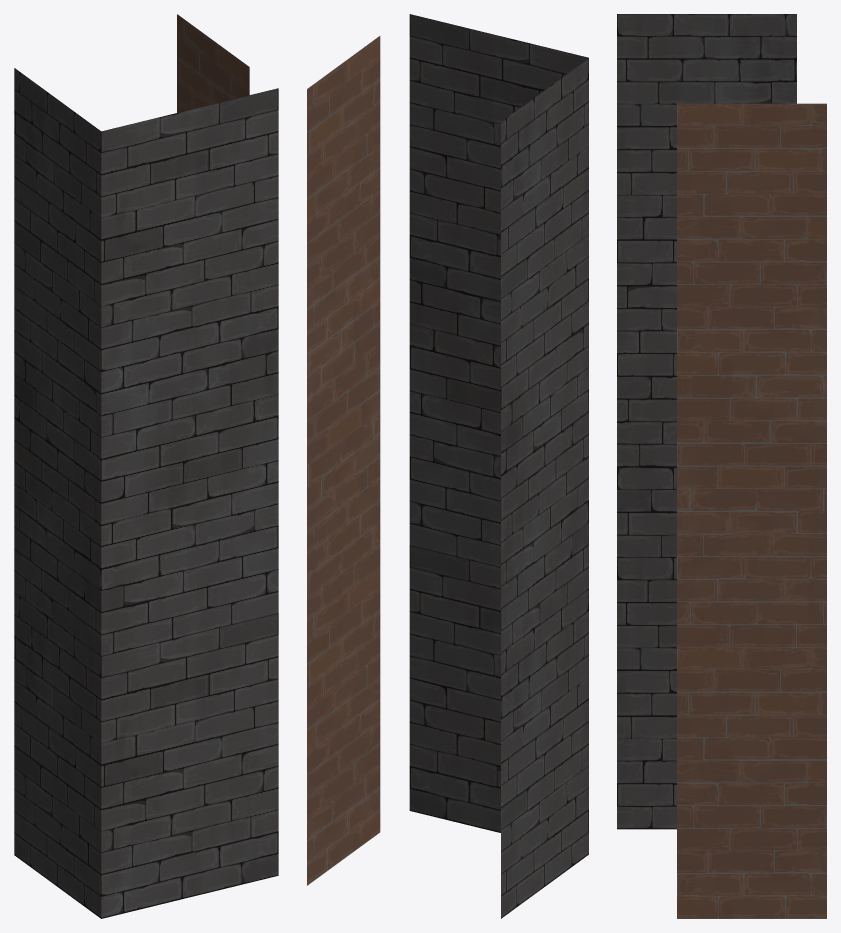
Rendered from WornBrick_90Angle_R.gltf.
The picture shows the model from 3 angles, left to right: view 1: azimuth 30°, elevation 25°; view 2: azimuth 150°, elevation 25°; view 3: azimuth 270°, elevation 25°; orthographic projection. The views are drawn at different scales.
Visible parts, largest first — view 1: WornBrick_90Angle_R; view 2: WornBrick_90Angle_R; view 3: WornBrick_90Angle_R.
Part boxes in pixels (x1,y1,x2,y2): WornBrick_90Angle_R: (14, 14, 278, 918); WornBrick_90Angle_R: (307, 14, 588, 918); WornBrick_90Angle_R: (617, 14, 826, 918).
Bounding box in the file's own units: 0.7062 × 3 × 0.7.
Materials: 2 (2 with a texture image).
